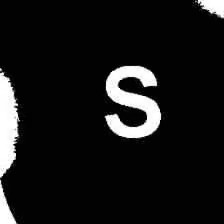LTR_S: (99, 61, 169, 143)
